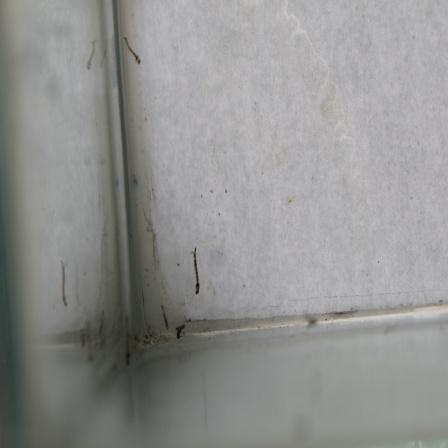Jentik-Nyamuk: (189, 244, 204, 300), (121, 33, 145, 65)
